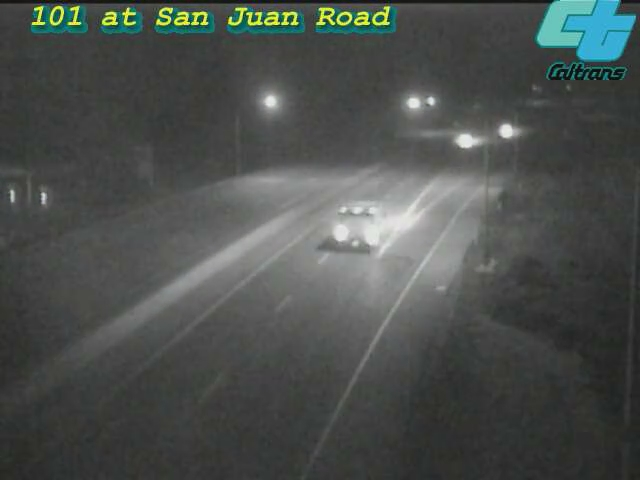vehicle: (314, 197, 394, 277), (478, 107, 528, 157), (440, 116, 490, 166)
